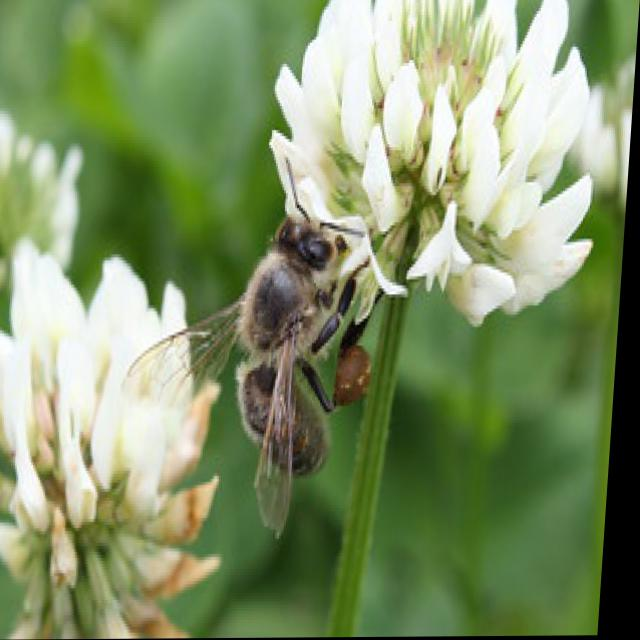Abeille: (126, 189, 406, 535)
